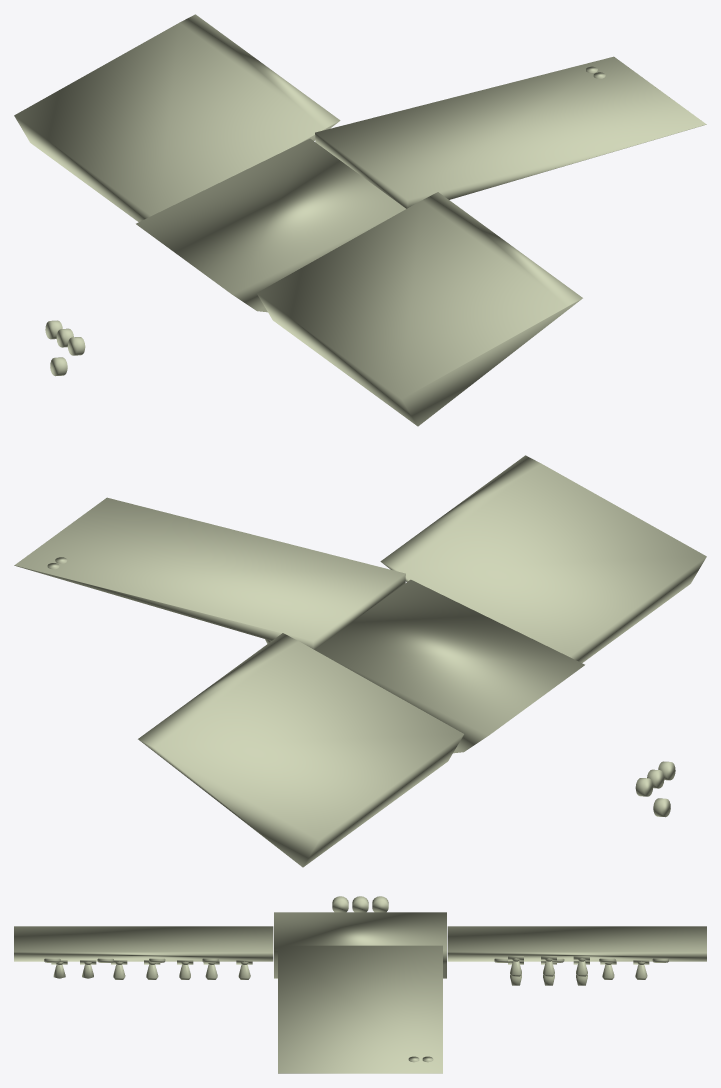
File: Overhead.obj
3 renders of one model, top to bottom at view 1: azimuth 30°, elevation 25°; view 2: azimuth 150°, elevation 25°; view 3: azimuth 270°, elevation 25°, orthographic. The views are drawn at different scales.
Parts seen in each view (by area): view 1: Cylinder67; view 2: Cylinder67; view 3: Cylinder67, Cube27_copy84, Cube27_sep104, Cube27_copy132, Cube27_sep111.
Part boxes in pixels (x1,y1,x2,y2): Cylinder67: [14, 14, 706, 426]; Cylinder67: [14, 455, 706, 867]; Cylinder67: [14, 912, 706, 1073]; Cube27_copy84: [51, 956, 649, 964]; Cube27_sep104: [602, 961, 647, 979]; Cube27_copy132: [205, 961, 250, 979]; Cube27_sep111: [510, 962, 587, 985].
Bounding box in the file's own units: 0.5793 × 0.1273 × 0.6408.
